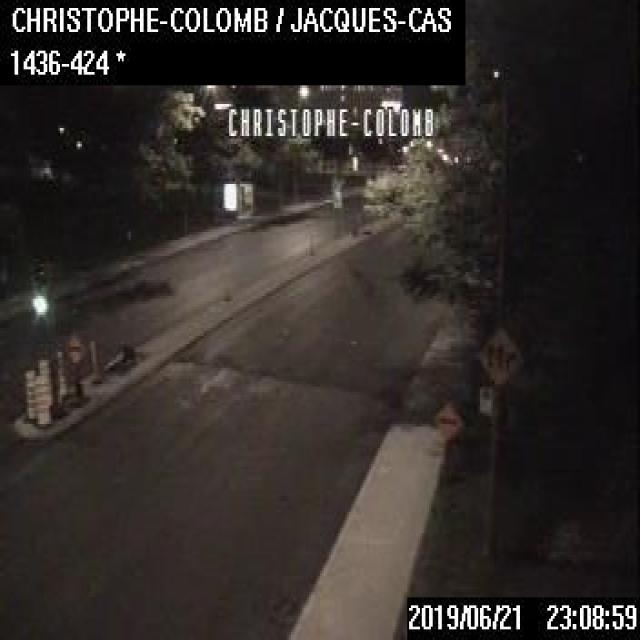construction: (433, 398, 462, 491), (33, 370, 51, 426), (37, 354, 52, 410), (23, 366, 34, 421), (56, 348, 66, 395)
